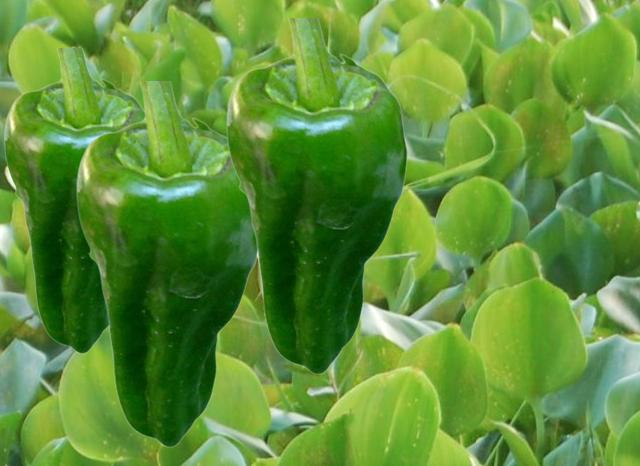bell_pepper: (75, 81, 256, 447), (225, 18, 407, 374), (3, 48, 143, 353)
